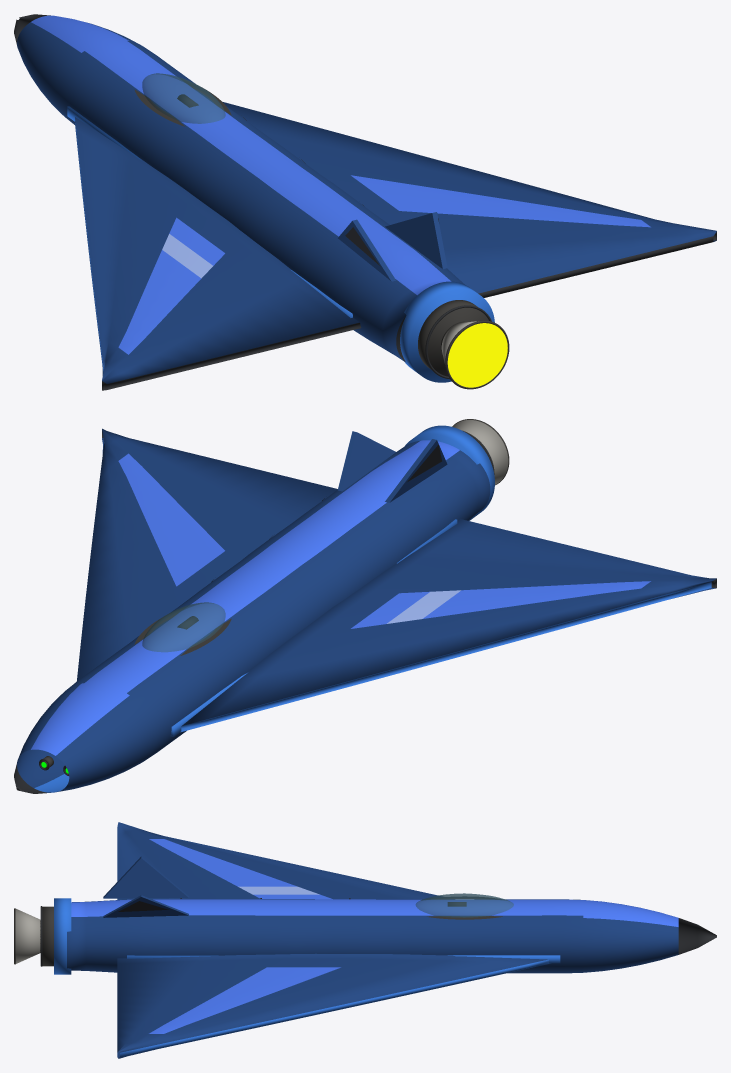
File: Ship_Longwing_2.glb
3 renders of one model, top to bottom at view 1: azimuth 30°, elevation 25°; view 2: azimuth 150°, elevation 25°; view 3: azimuth 270°, elevation 25°, orthographic. The views are drawn at different scales.
Parts seen in each view (by area): view 1: Fuselage_OrganicEllipsoidTaperedBody_BakedPaint, Wing_Left_LongDeltaAerofoil_BakedPaint, Wing_Right_LongDeltaAerofoil_BakedPaint, EngineEmitter, AftCollar_IntegratedSingleEngineBand, CanopyGlass_LowInsetDome, EngineBlock_AftDarkSingleEngineHousing, TailFin_Right_CantedStabilizer, TailFin_Left_CantedStabilizer, CanopyFrame_DorsalOvalRim, WingRoot_Left_EmbeddedShoulder; view 2: Fuselage_OrganicEllipsoidTaperedBody_BakedPaint, Wing_Left_LongDeltaAerofoil_BakedPaint, Wing_Right_LongDeltaAerofoil_BakedPaint, CanopyGlass_LowInsetDome, TailFin_Right_CantedStabilizer, AftCollar_IntegratedSingleEngineBand, EngineBell_Center_BroadBurnishedNozzle, TailFin_Left_CantedStabilizer, WingRoot_Left_EmbeddedShoulder, CanopyFrame_DorsalOvalRim; view 3: Fuselage_OrganicEllipsoidTaperedBody_BakedPaint, Wing_Right_LongDeltaAerofoil_BakedPaint, Wing_Left_LongDeltaAerofoil_BakedPaint, TailFin_Left_CantedStabilizer, CanopyGlass_LowInsetDome, AftCollar_IntegratedSingleEngineBand, EngineBell_Center_BroadBurnishedNozzle, TailFin_Right_CantedStabilizer, EngineBlock_AftDarkSingleEngineHousing, WingRoot_Right_EmbeddedShoulder.
Part boxes in pixels (x1=…): Fuselage_OrganicEllipsoidTaperedBody_BakedPaint: x1=14, y1=14, x2=464, y2=362; Wing_Left_LongDeltaAerofoil_BakedPaint: x1=75, y1=117, x2=361, y2=390; Wing_Right_LongDeltaAerofoil_BakedPaint: x1=223, y1=102, x2=716, y2=297; EngineEmitter: x1=447, y1=323, x2=507, y2=387; AftCollar_IntegratedSingleEngineBand: x1=400, y1=281, x2=494, y2=382; CanopyGlass_LowInsetDome: x1=142, y1=73, x2=225, y2=123; EngineBlock_AftDarkSingleEngineHousing: x1=418, y1=300, x2=488, y2=376; TailFin_Right_CantedStabilizer: x1=385, y1=212, x2=447, y2=268; TailFin_Left_CantedStabilizer: x1=338, y1=219, x2=395, y2=281; CanopyFrame_DorsalOvalRim: x1=134, y1=79, x2=231, y2=126; WingRoot_Left_EmbeddedShoulder: x1=67, y1=106, x2=352, y2=317; Fuselage_OrganicEllipsoidTaperedBody_BakedPaint: x1=14, y1=440, x2=490, y2=793; Wing_Left_LongDeltaAerofoil_BakedPaint: x1=180, y1=519, x2=716, y2=732; Wing_Right_LongDeltaAerofoil_BakedPaint: x1=76, y1=428, x2=337, y2=681; CanopyGlass_LowInsetDome: x1=142, y1=602, x2=225, y2=652; TailFin_Right_CantedStabilizer: x1=338, y1=431, x2=395, y2=491; AftCollar_IntegratedSingleEngineBand: x1=404, y1=425, x2=494, y2=520; EngineBell_Center_BroadBurnishedNozzle: x1=452, y1=420, x2=508, y2=484; TailFin_Left_CantedStabilizer: x1=385, y1=439, x2=447, y2=502; WingRoot_Left_EmbeddedShoulder: x1=170, y1=519, x2=457, y2=736; CanopyFrame_DorsalOvalRim: x1=134, y1=608, x2=231, y2=655; Fuselage_OrganicEllipsoidTaperedBody_BakedPaint: x1=67, y1=899, x2=716, y2=973; Wing_Right_LongDeltaAerofoil_BakedPaint: x1=117, y1=953, x2=550, y2=1058; Wing_Left_LongDeltaAerofoil_BakedPaint: x1=117, y1=822, x2=441, y2=899; TailFin_Left_CantedStabilizer: x1=103, y1=856, x2=188, y2=898; CanopyGlass_LowInsetDome: x1=415, y1=893, x2=513, y2=917; AftCollar_IntegratedSingleEngineBand: x1=54, y1=898, x2=71, y2=974; EngineBell_Center_BroadBurnishedNozzle: x1=15, y1=909, x2=40, y2=963; TailFin_Right_CantedStabilizer: x1=103, y1=895, x2=188, y2=917; EngineBlock_AftDarkSingleEngineHousing: x1=42, y1=906, x2=53, y2=966; WingRoot_Right_EmbeddedShoulder: x1=127, y1=955, x2=560, y2=963.
Size of the model in its own units: 6.27 by 1.26 by 8.12.
